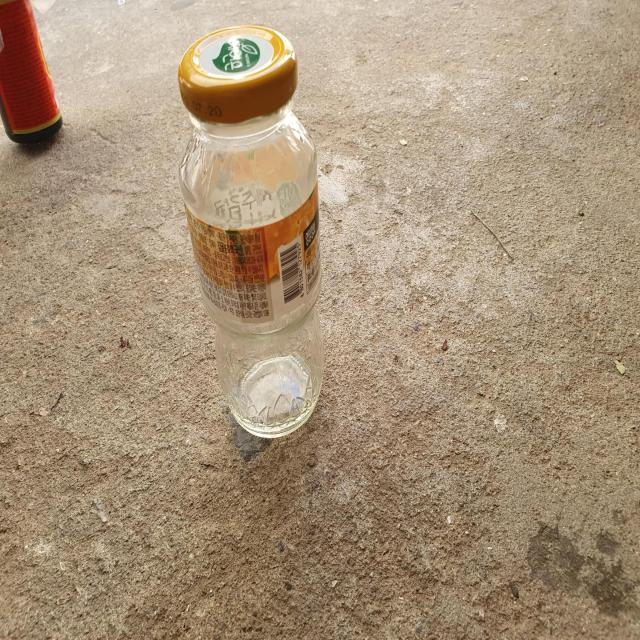glass: (178, 24, 324, 438)
